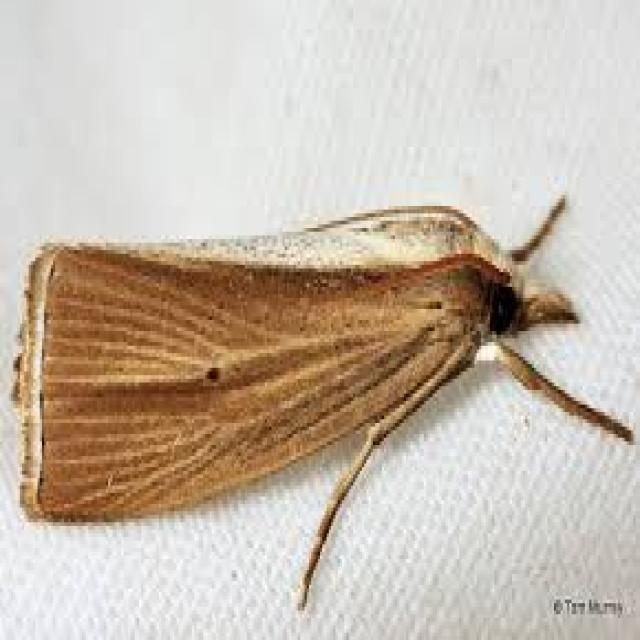yellow-stem-borer: (8, 134, 623, 558)
